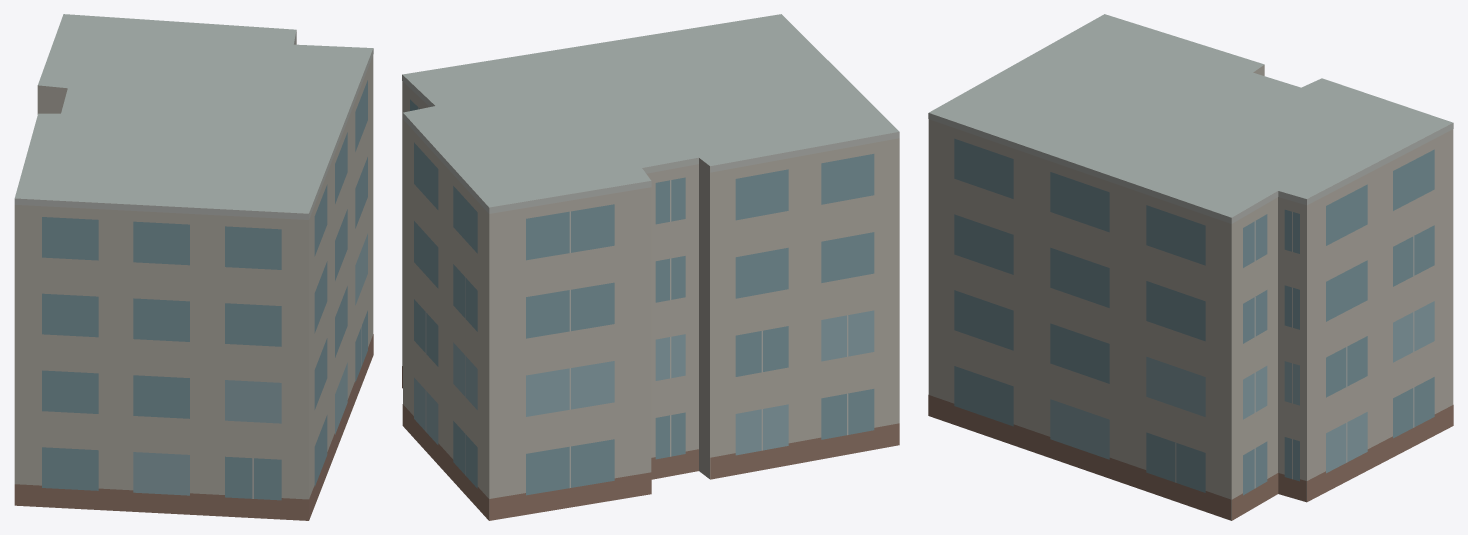
File: survey-upis-32681165.glb
3 renders of one model, left to right at view 1: azimuth 30°, elevation 25°; view 2: azimuth 150°, elevation 25°; view 3: azimuth 270°, elevation 25°, orthographic. The views are drawn at different scales.
Parts seen in each view (by area): view 1: survey-upis-32681165.tmp; view 2: survey-upis-32681165.tmp; view 3: survey-upis-32681165.tmp.
Part boxes in pixels (<box>): survey-upis-32681165.tmp: <box>14,14,373,520</box>; survey-upis-32681165.tmp: <box>402,14,899,520</box>; survey-upis-32681165.tmp: <box>928,14,1453,520</box>.
Bounding box in the file's own units: 17.09 × 11.85 × 18.61.
